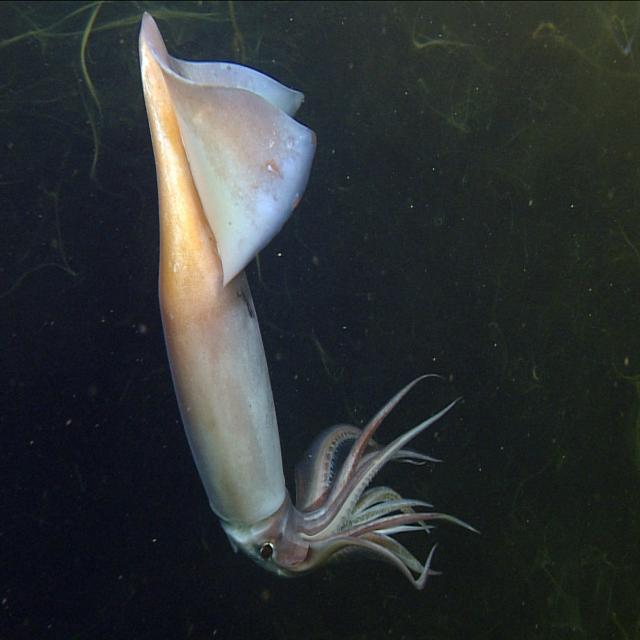SQUID: (112, 9, 488, 640)
